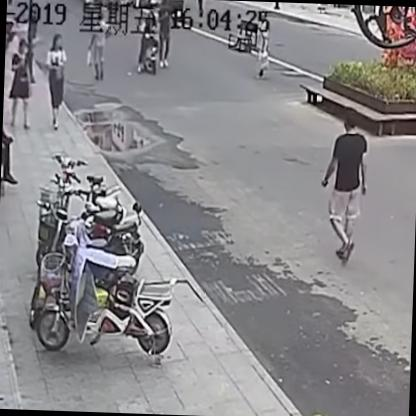Human Body: (315, 106, 373, 270), (3, 31, 37, 131), (41, 28, 74, 130), (82, 9, 113, 86), (149, 0, 178, 76), (128, 12, 161, 78), (252, 8, 277, 80)
